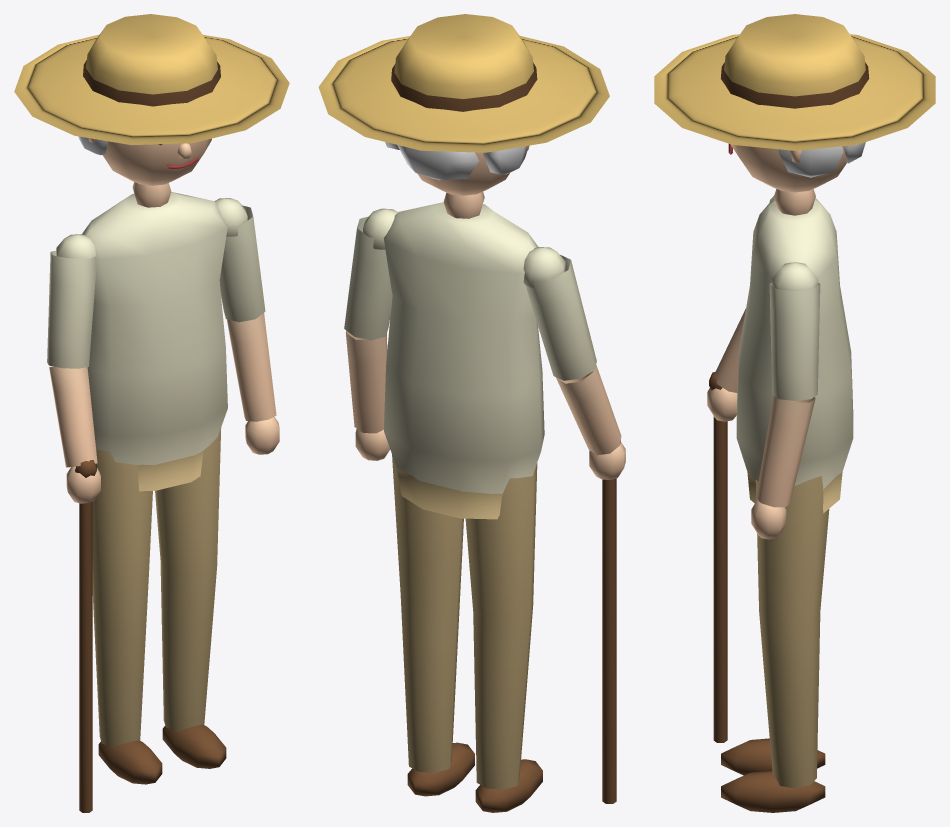
File: Guest_SeniorMan.obj
3 renders of one model, left to right at view 1: azimuth 30°, elevation 25°; view 2: azimuth 150°, elevation 25°; view 3: azimuth 270°, elevation 25°, orthographic. The views are drawn at different scales.
Parts seen in each view (by area): view 1: Torso, Head, LegR, LegL, ArmR, ArmL, Prop; view 2: Torso, Head, LegR, LegL, ArmR, ArmL, Prop; view 3: Head, Torso, LegL, ArmL, Prop, ArmR, LegR.
Boxes of the visible parts, x1=… form: Torso: x1=82, y1=182, x2=227, y2=491; Head: x1=14, y1=14, x2=289, y2=185; LegR: x1=92, y1=449, x2=162, y2=784; LegL: x1=155, y1=428, x2=226, y2=768; ArmR: x1=47, y1=234, x2=100, y2=503; ArmL: x1=214, y1=198, x2=279, y2=454; Prop: x1=75, y1=460, x2=96, y2=812; Torso: x1=383, y1=192, x2=544, y2=519; Head: x1=318, y1=14, x2=609, y2=195; LegR: x1=465, y1=463, x2=542, y2=812; LegL: x1=392, y1=455, x2=474, y2=796; ArmR: x1=523, y1=247, x2=625, y2=479; ArmL: x1=344, y1=208, x2=398, y2=460; Prop: x1=602, y1=440, x2=620, y2=803; Head: x1=654, y1=14, x2=935, y2=192; Torso: x1=736, y1=189, x2=853, y2=513; LegL: x1=721, y1=476, x2=829, y2=812; ArmL: x1=751, y1=262, x2=820, y2=539; Prop: x1=709, y1=372, x2=727, y2=742; ArmR: x1=707, y1=195, x2=774, y2=421; LegR: x1=721, y1=738, x2=825, y2=775.
Bounding box in the file's own units: 0.6366 × 1.84 × 0.6206.
Materials: 1 (1 with a texture image).
